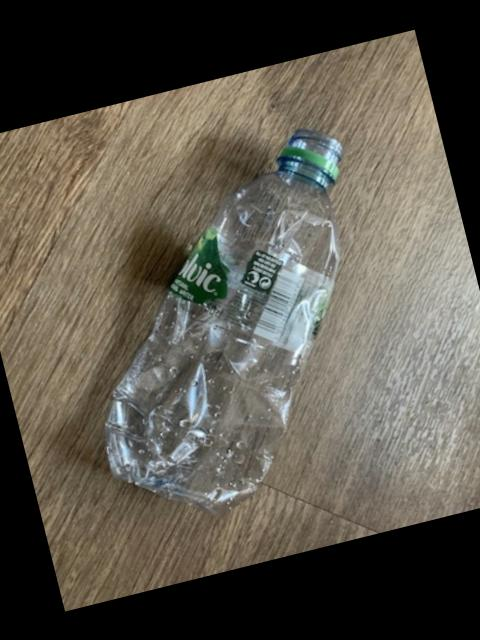plastic: (107, 126, 342, 509)
